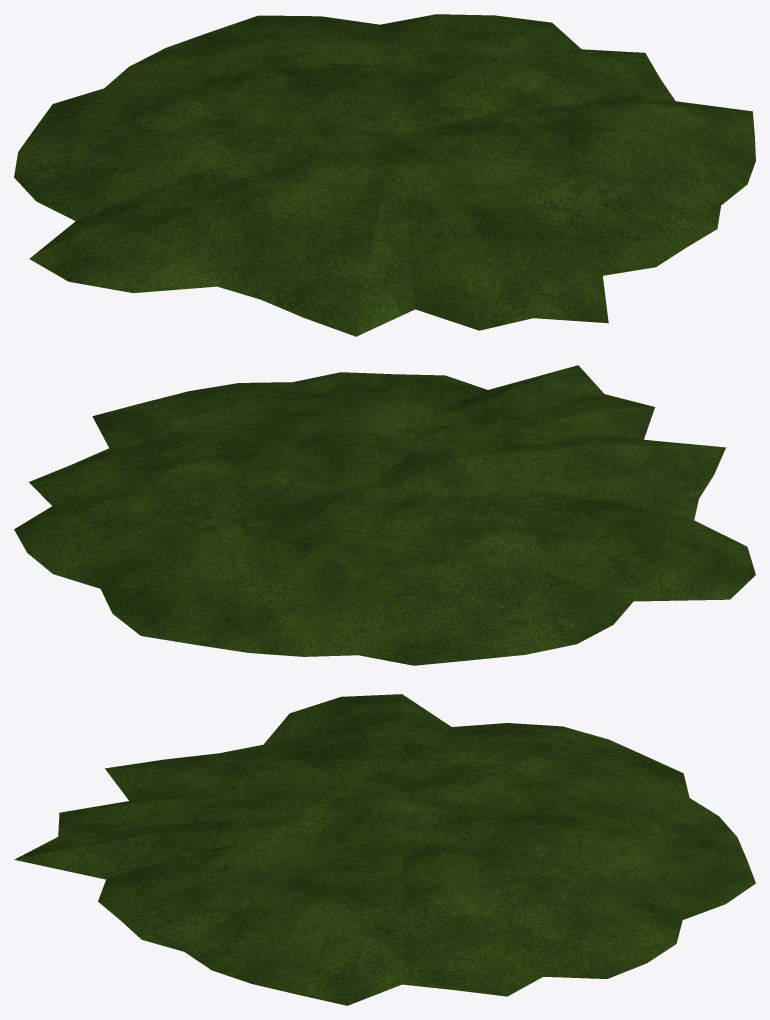
The model's file is feather_moss_v02.fbx.
The picture shows the model from 3 angles, top to bottom: view 1: azimuth 30°, elevation 25°; view 2: azimuth 150°, elevation 25°; view 3: azimuth 270°, elevation 25°; orthographic projection. The views are drawn at different scales.
Visible parts, largest first — view 1: feather_moss_v02; view 2: feather_moss_v02; view 3: feather_moss_v02.
Part boxes in pixels (bbox=[...]): feather_moss_v02: bbox=[14, 14, 755, 336]; feather_moss_v02: bbox=[14, 365, 755, 665]; feather_moss_v02: bbox=[14, 694, 755, 1005].
Size of the model in its own units: 81.44 by 4.88 by 81.9.
Materials: 1 (1 with a texture image).
